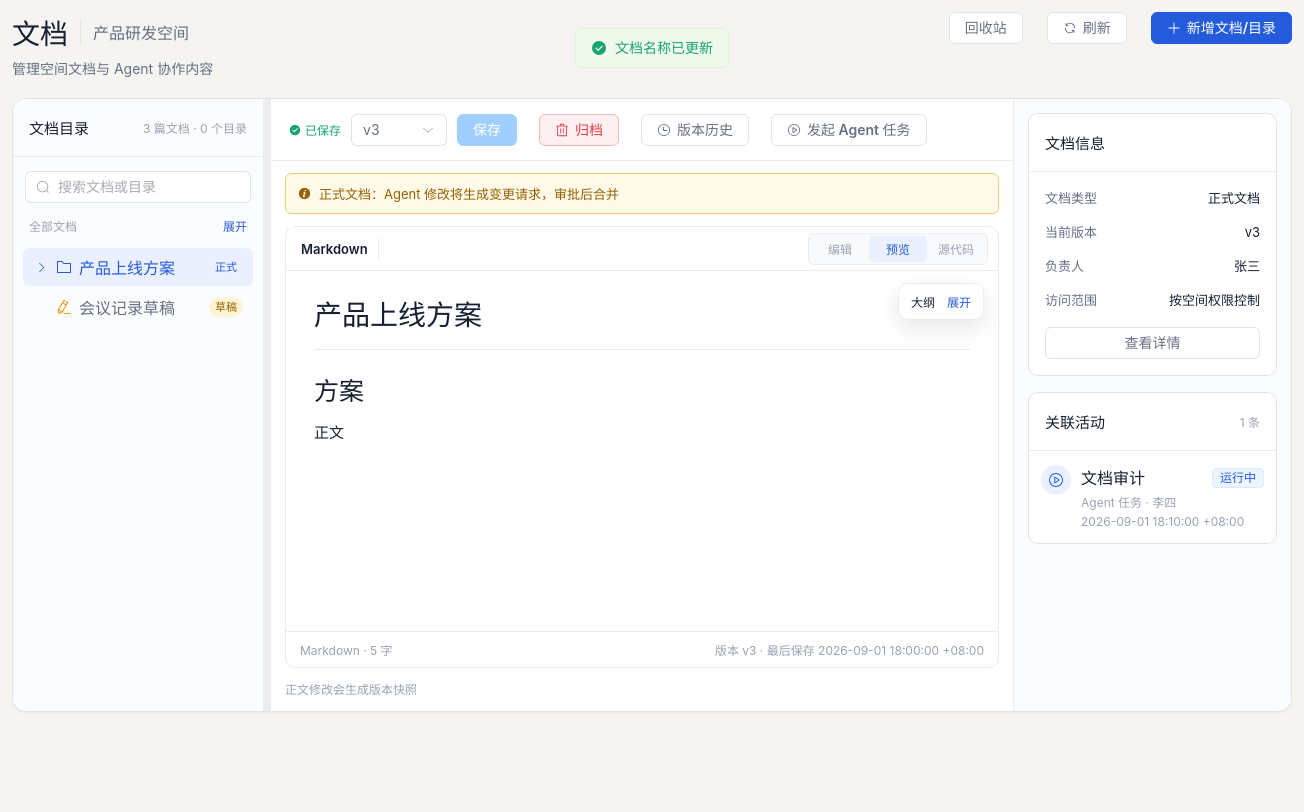
Test case: DocumentEditorView › collapses a document tree node independently
Click the button with class "document-tree-node__row" showing "产品上线方案 正式".
click(138, 267)  # box [23,248,253,286]
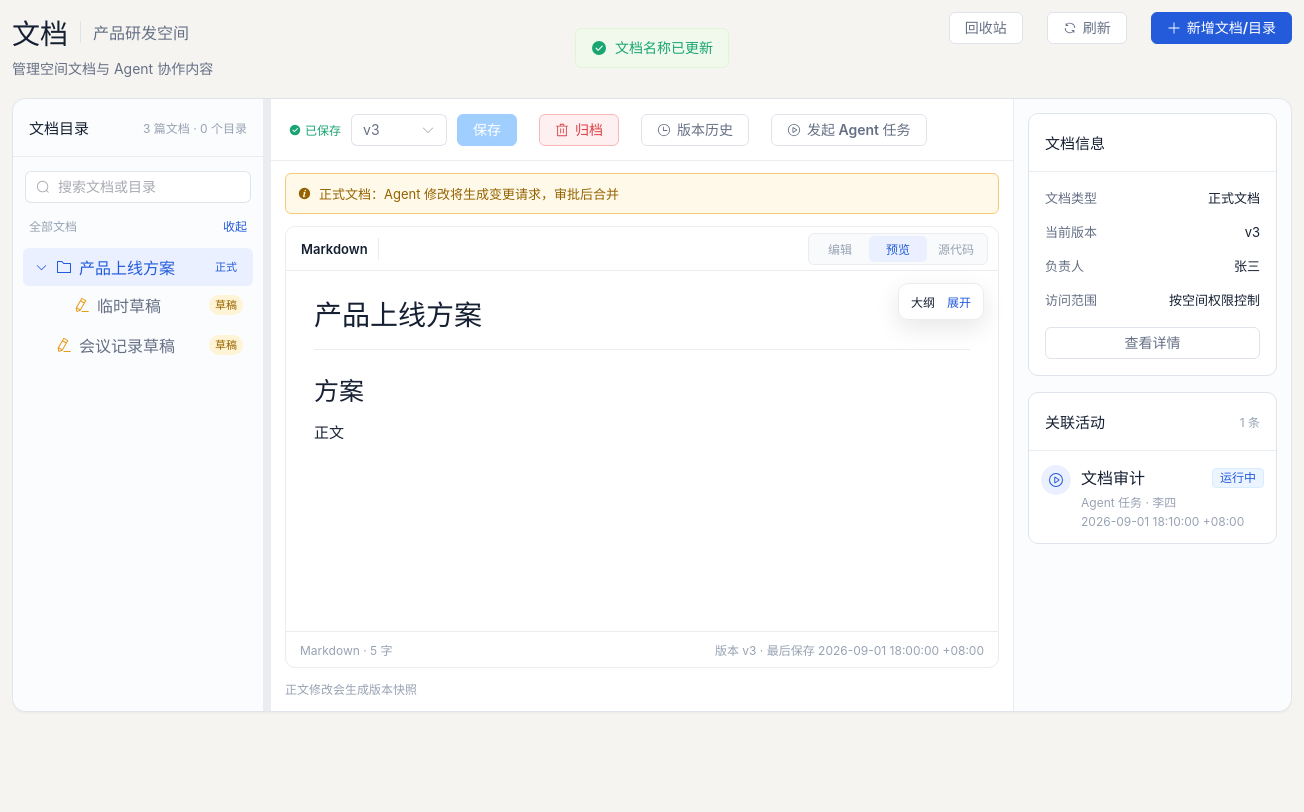
Check: the element with class "document-tree" shows "临时草稿", box [97,296,161,316]
Click the button with class "document-tree-node__row" showing "产品上线方案 正式".
click(138, 267)  # box [23,248,253,286]
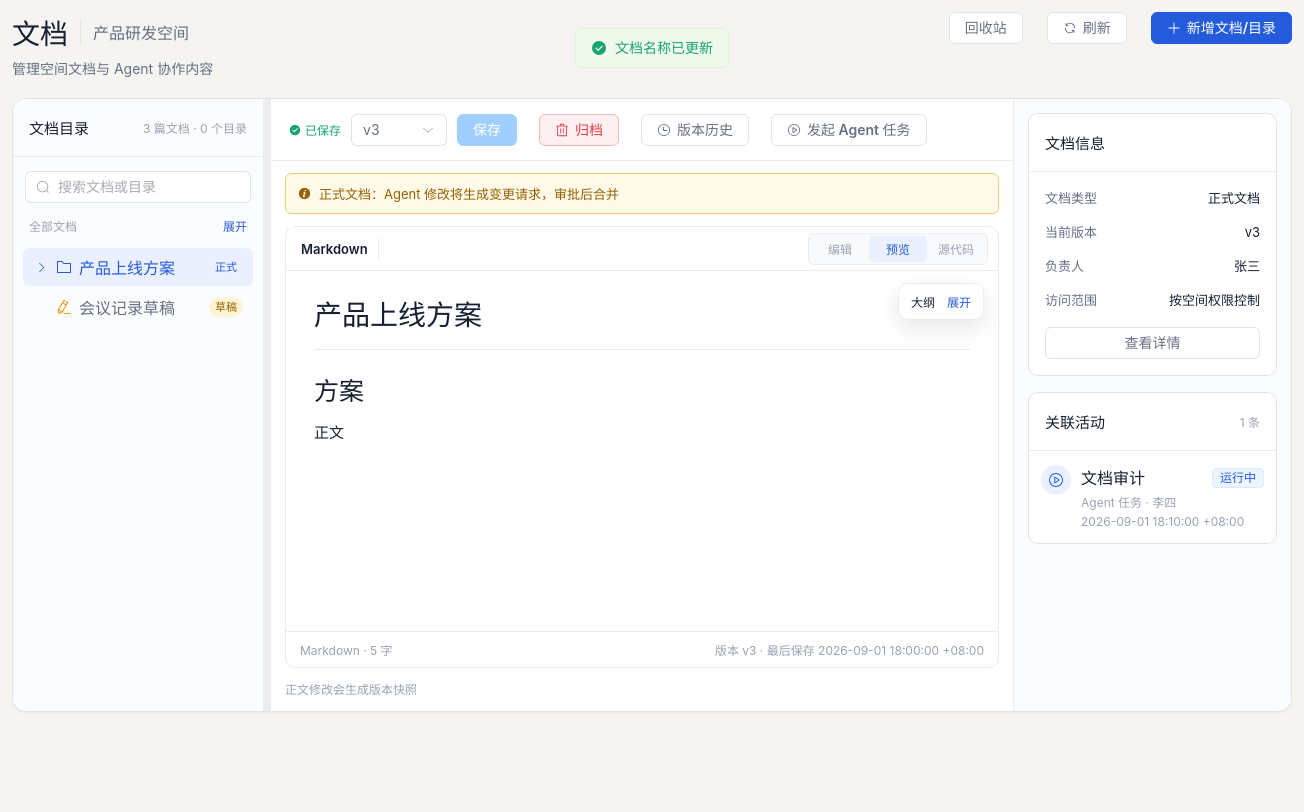
Check: the button with class "document-tree" no longer shows "临时草稿"
